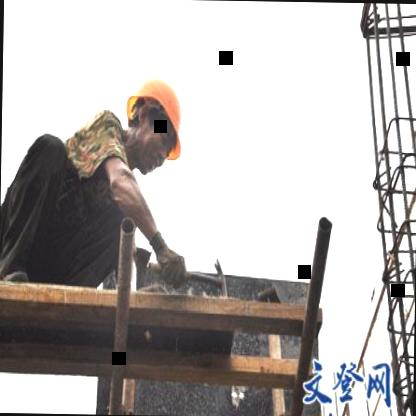helmet: (118, 56, 191, 177)
